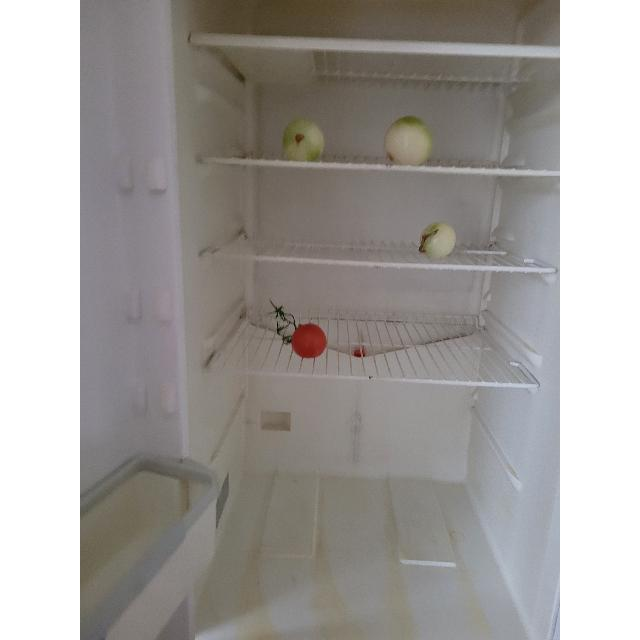onion: (383, 115, 435, 167), (282, 118, 326, 162), (418, 222, 456, 260)
tomato: (290, 322, 328, 358)
